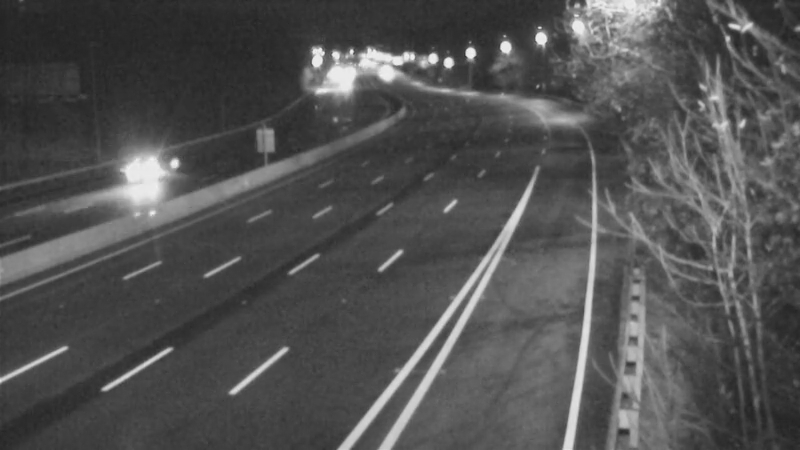vehicle: (105, 134, 185, 214), (360, 50, 410, 100)
